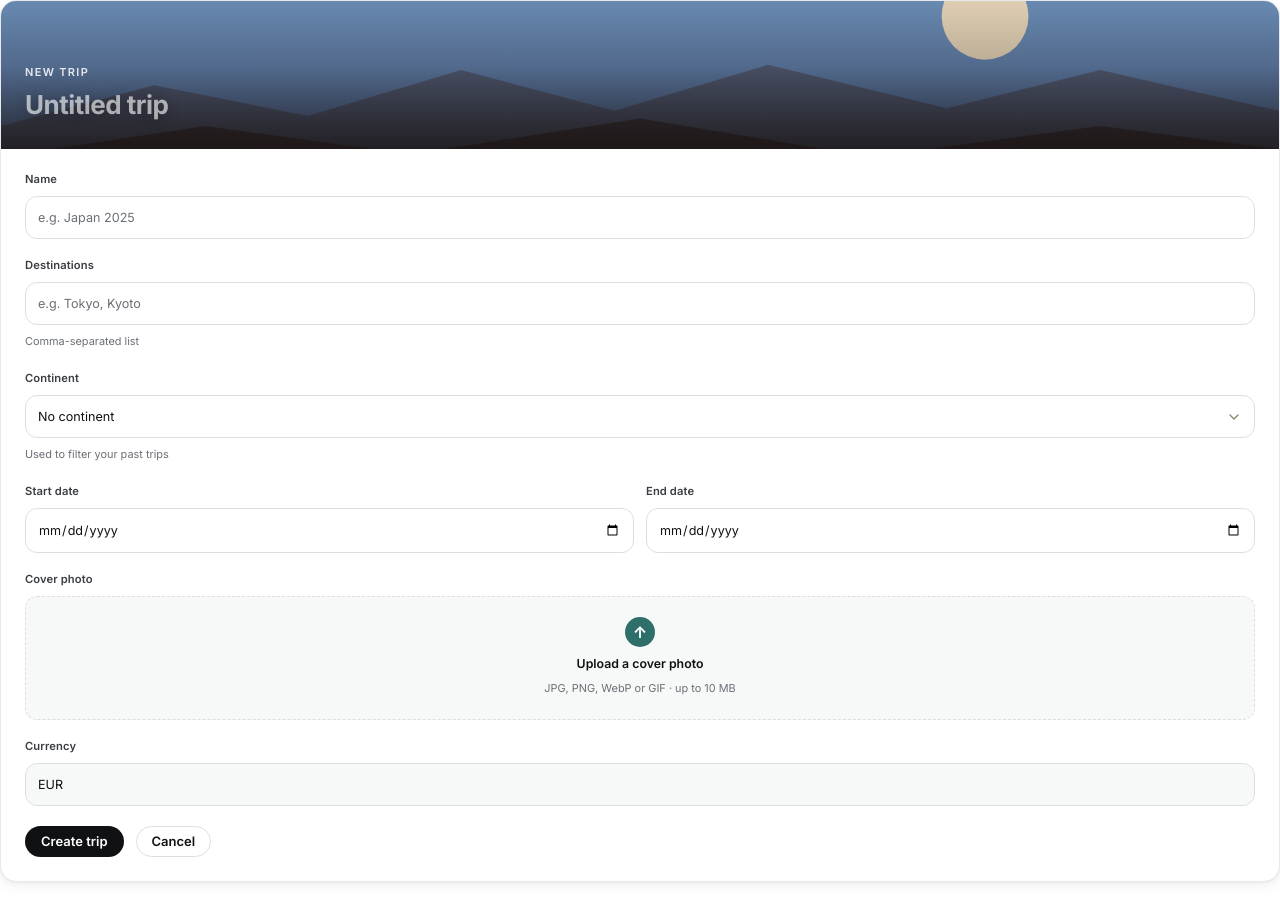
Test: TripForm — create mode › shows validation error when name is missing
Click the button "Create trip".
click(74, 842)  # box [25,826,124,857]
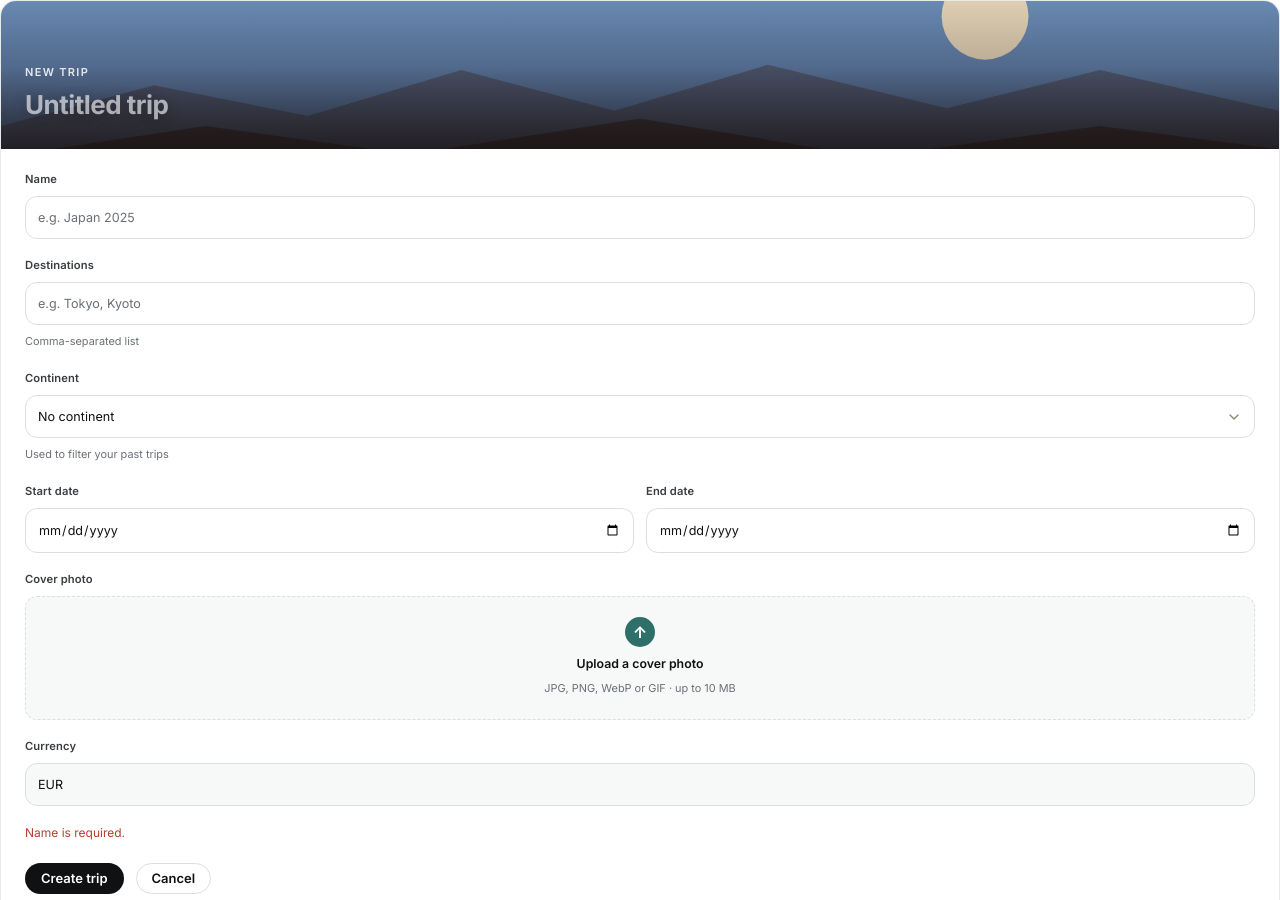
Now the message shows "Name is required", box [25,825,125,840]
